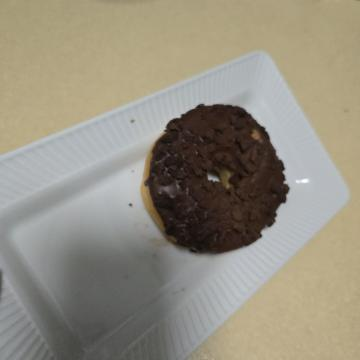doughnut: (91, 60, 270, 230)
